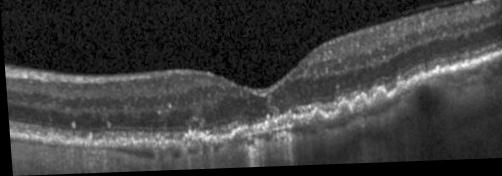retinal_drusen: (307, 112, 323, 128), (334, 104, 349, 120), (182, 137, 203, 148), (352, 98, 366, 114), (289, 121, 305, 132), (372, 93, 385, 105), (393, 86, 404, 99), (231, 133, 241, 142)
